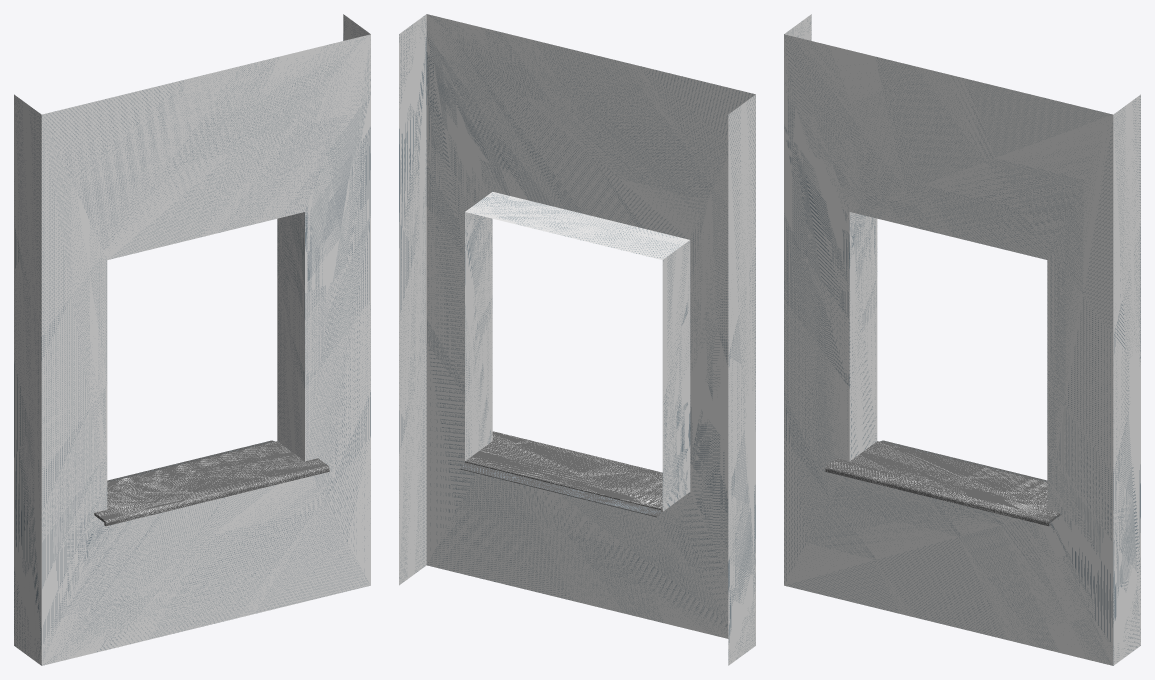
File: WindowBlock_os_[250x400]_150x181x[100].dae
The picture shows the model from 3 angles, left to right: view 1: azimuth 30°, elevation 25°; view 2: azimuth 150°, elevation 25°; view 3: azimuth 330°, elevation 25°; orthographic projection.
Visible parts, largest first — view 1: group_2 (×2), group_1; view 2: group_2 (×2), group_1 (×2); view 3: group_2 (×2), group_1.
Boxes of the visible parts, bbox=[...] form: group_2 (×2): bbox=[14, 14, 370, 665]; group_1: bbox=[94, 441, 329, 526]; group_2 (×2): bbox=[399, 14, 755, 665]; group_1 (×2): bbox=[459, 431, 662, 517]; group_2 (×2): bbox=[784, 14, 1140, 665]; group_1: bbox=[825, 441, 1060, 526].
Size of the model in its own units: 98.43 by 23.03 by 157.
